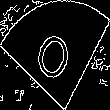O_SW: (31, 20, 79, 90)
